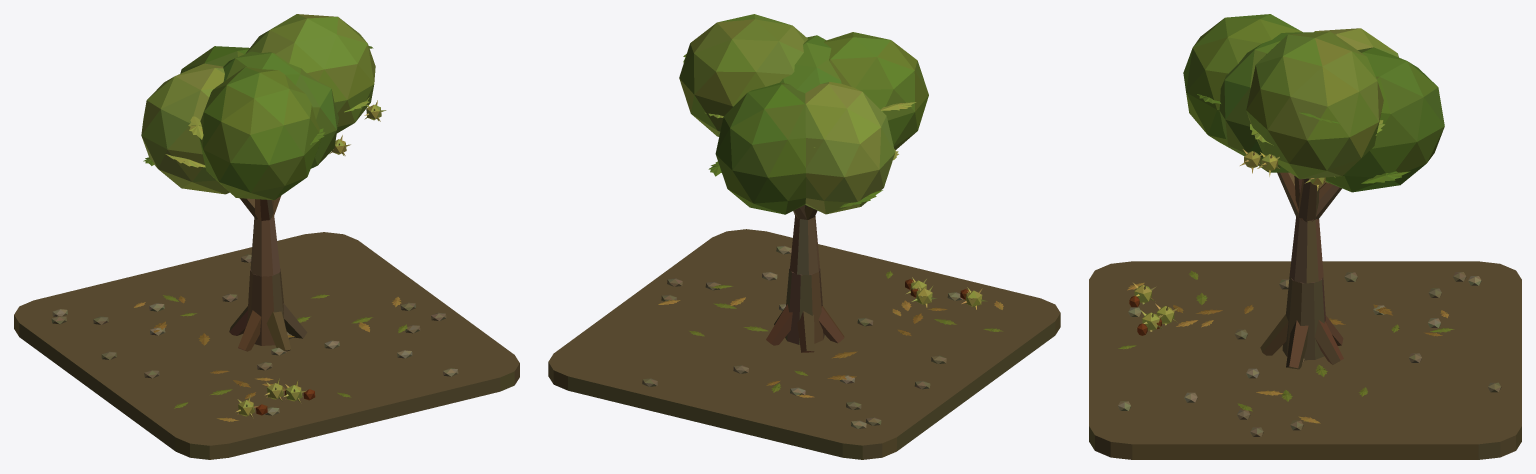
Rendered from chataignier_petit.glb.
3 renders of one model, left to right at view 1: azimuth 30°, elevation 25°; view 2: azimuth 150°, elevation 25°; view 3: azimuth 270°, elevation 25°, orthographic. The views are drawn at different scales.
Parts seen in each view (by area): view 1: Sous_bois, Feuilles_et_chataignes, Troncs_et_ramures; view 2: Sous_bois, Feuilles_et_chataignes, Troncs_et_ramures; view 3: Sous_bois, Feuilles_et_chataignes, Troncs_et_ramures.
Boxes of the visible parts, <box> form: Sous_bois: <box>14,232,519,459</box>; Feuilles_et_chataignes: <box>134,14,407,421</box>; Troncs_et_ramures: <box>229,196,315,415</box>; Sous_bois: <box>548,229,1060,459</box>; Feuilles_et_chataignes: <box>658,14,1003,397</box>; Troncs_et_ramures: <box>766,205,968,352</box>; Sous_bois: <box>1089,261,1521,459</box>; Feuilles_et_chataignes: <box>1118,14,1454,423</box>; Troncs_et_ramures: <box>1129,172,1343,369</box>.
Bounding box in the file's own units: 0.5 × 0.452 × 0.5.
